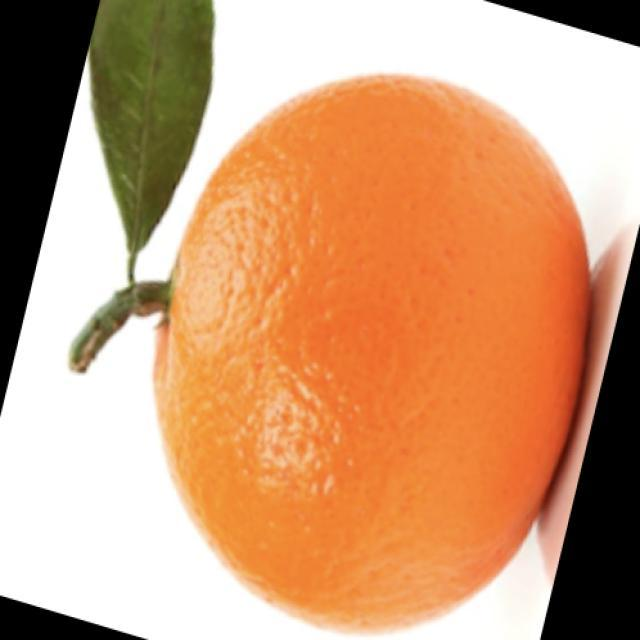Orange: (150, 71, 592, 635)
